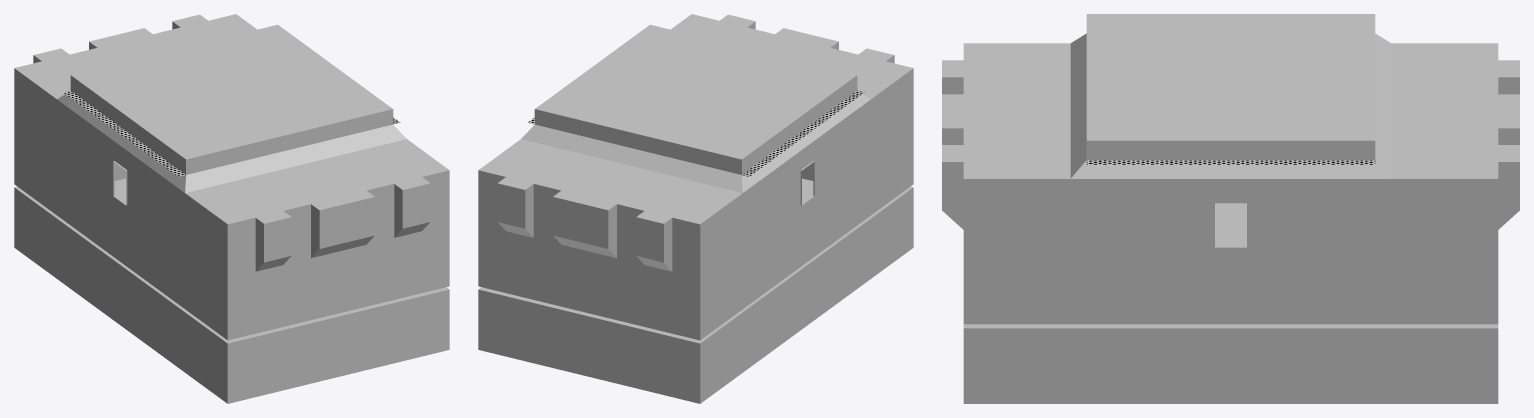
File: Hallway-Room-Type-1.obj
The picture shows the model from 3 angles, left to right: view 1: azimuth 30°, elevation 25°; view 2: azimuth 150°, elevation 25°; view 3: azimuth 270°, elevation 25°; orthographic projection. The views are drawn at different scales.
Parts seen in each view (by area): view 1: Hallway-Room-Type-1; view 2: Hallway-Room-Type-1; view 3: Hallway-Room-Type-1.
Boxes of the visible parts, x1,y1,x2,y2 form: Hallway-Room-Type-1: [14, 14, 449, 403]; Hallway-Room-Type-1: [478, 14, 913, 403]; Hallway-Room-Type-1: [942, 14, 1519, 403].
Bounding box in the file's own units: 15.2 × 13.35 × 27.
